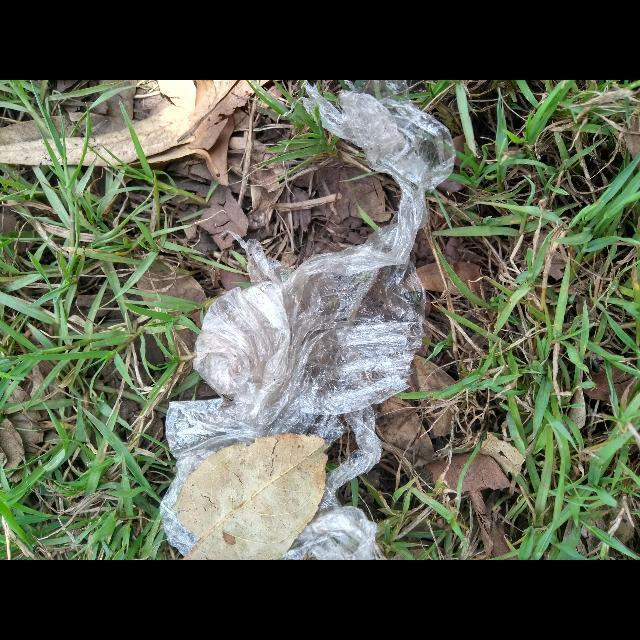Plastic: (160, 80, 456, 560)
